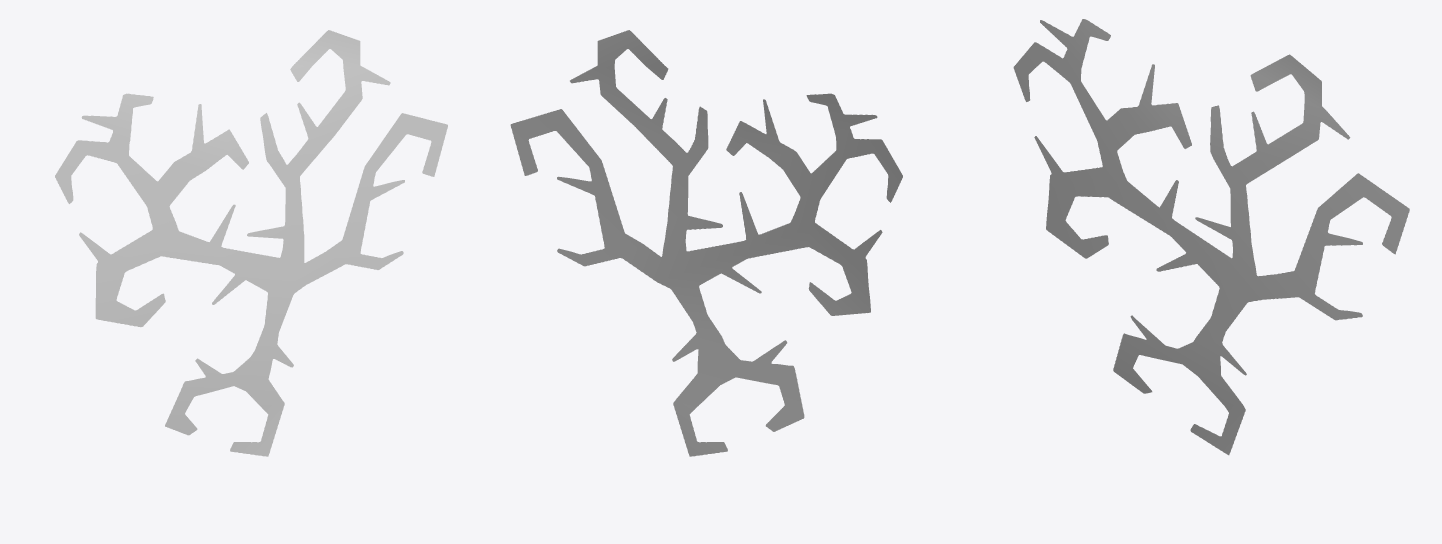
The model's file is SM_Env_Vine_04.fbx.
3 renders of one model, left to right at view 1: azimuth 30°, elevation 25°; view 2: azimuth 150°, elevation 25°; view 3: azimuth 330°, elevation 25°, orthographic.
Parts seen in each view (by area): view 1: SM_Env_Vine_04; view 2: SM_Env_Vine_04; view 3: SM_Env_Vine_04.
Part boxes in pixels (box(x1,y1,x2,y2)): SM_Env_Vine_04: box(55, 30, 447, 456); SM_Env_Vine_04: box(510, 30, 902, 456); SM_Env_Vine_04: box(1013, 19, 1409, 455).
Size of the model in its own units: 130 by 139 by 6.33.
